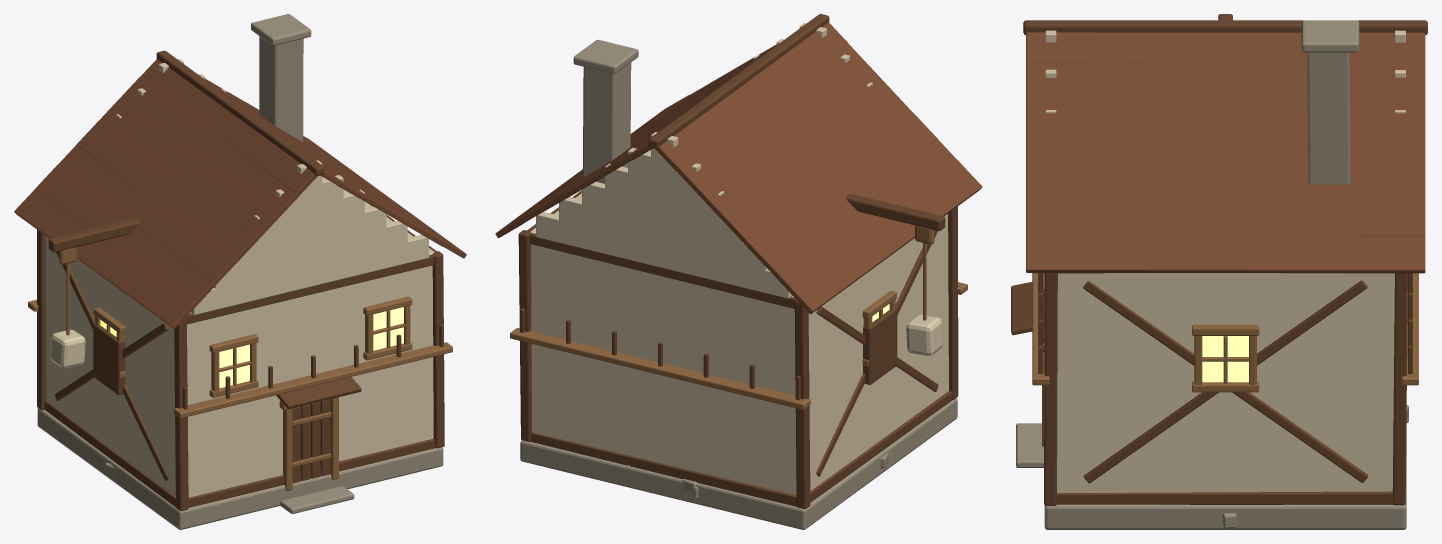
Rendered from moulin.glb.
The picture shows the model from 3 angles, left to right: view 1: azimuth 30°, elevation 25°; view 2: azimuth 150°, elevation 25°; view 3: azimuth 270°, elevation 25°; orthographic projection. The views are drawn at different scales.
Parts seen in each view (by area): view 1: moulin; view 2: moulin; view 3: moulin.
Part boxes in pixels (x1,y1,x2,y2): moulin: [14, 14, 466, 529]; moulin: [495, 14, 982, 529]; moulin: [1011, 14, 1427, 529].
Bounding box in the file's own units: 9.87 × 10.36 × 8.35.
